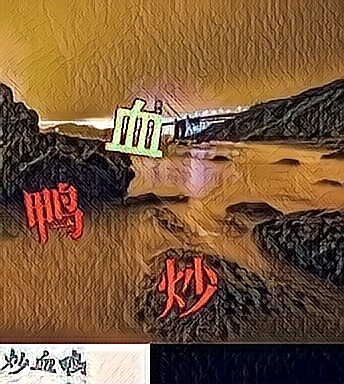B3B4: (157, 253, 221, 319)
D1AA: (103, 95, 167, 161)
D1BC: (21, 180, 85, 246)
